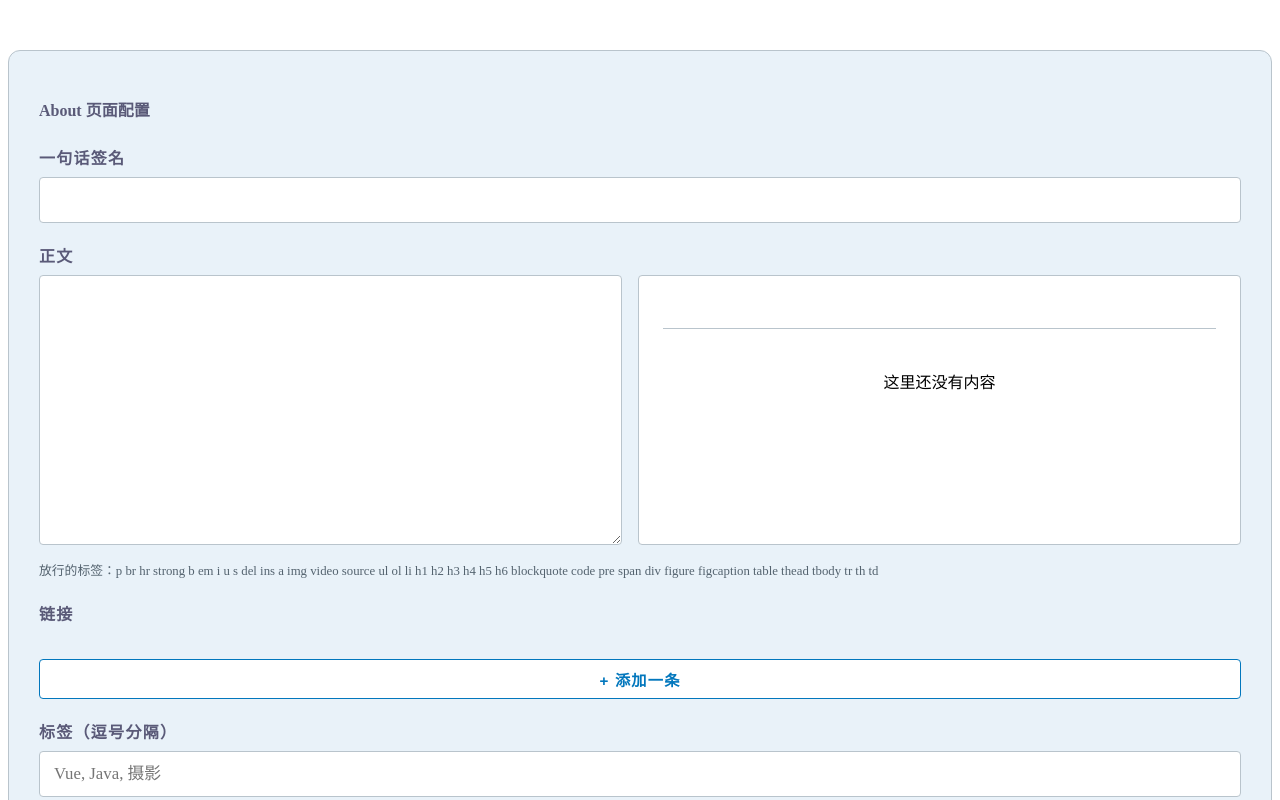
Test: AboutConfigForm › 正文预览实时反映输入
In the text box with class "about-bio-input": (330, 410) [39,275,622,545], type "<p>新的正文</p>"
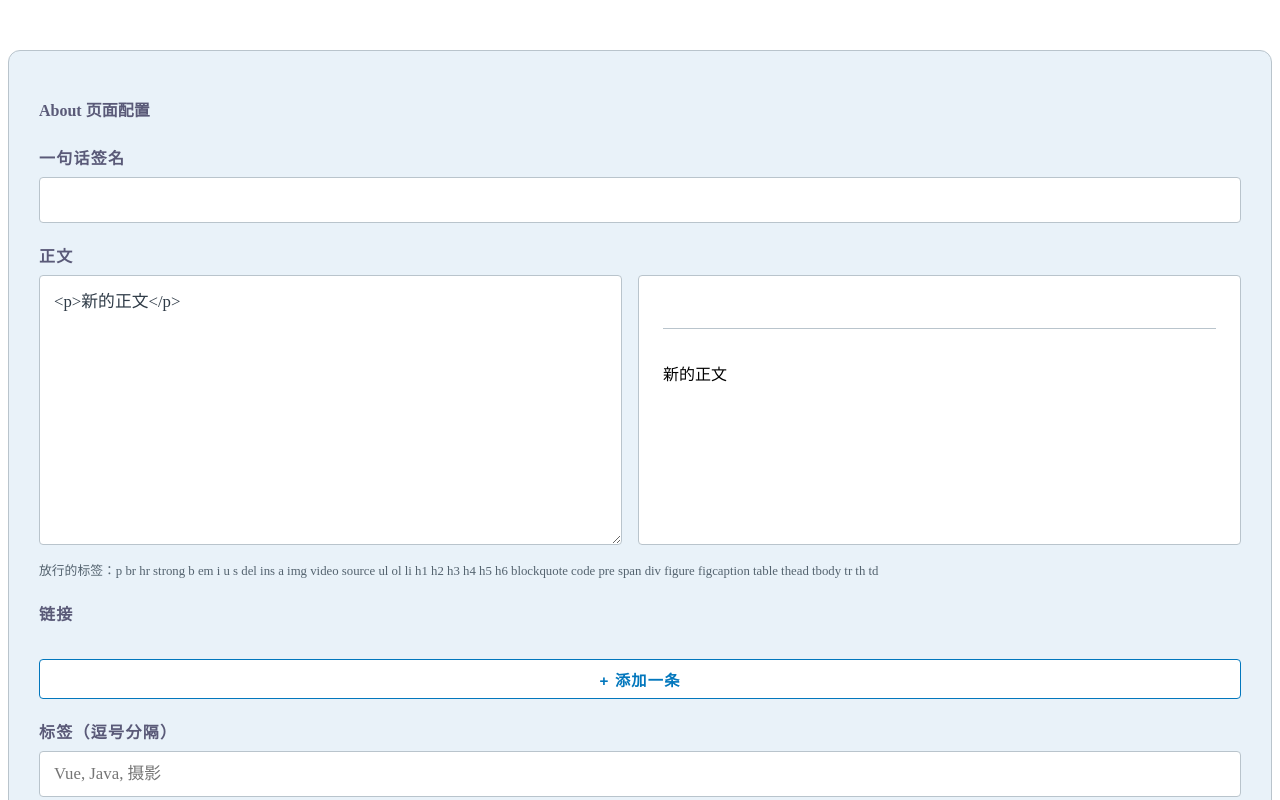
Expected: the text "新的正文" is shown, [663,367,727,385]
